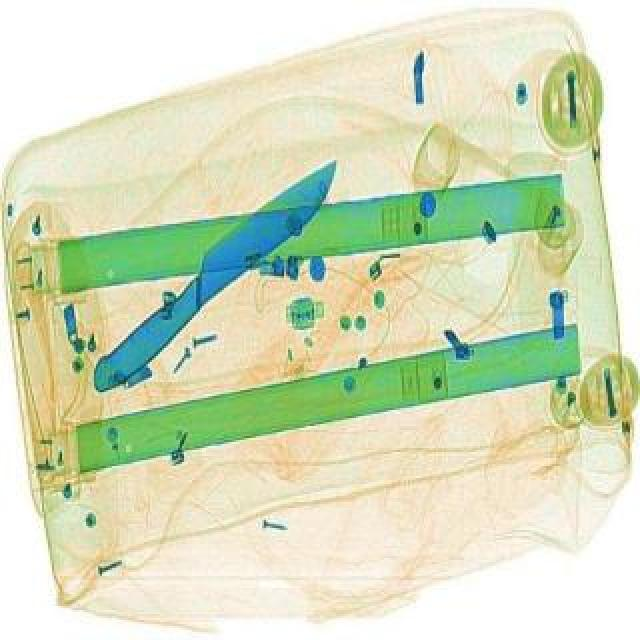knife: (74, 144, 354, 400)
